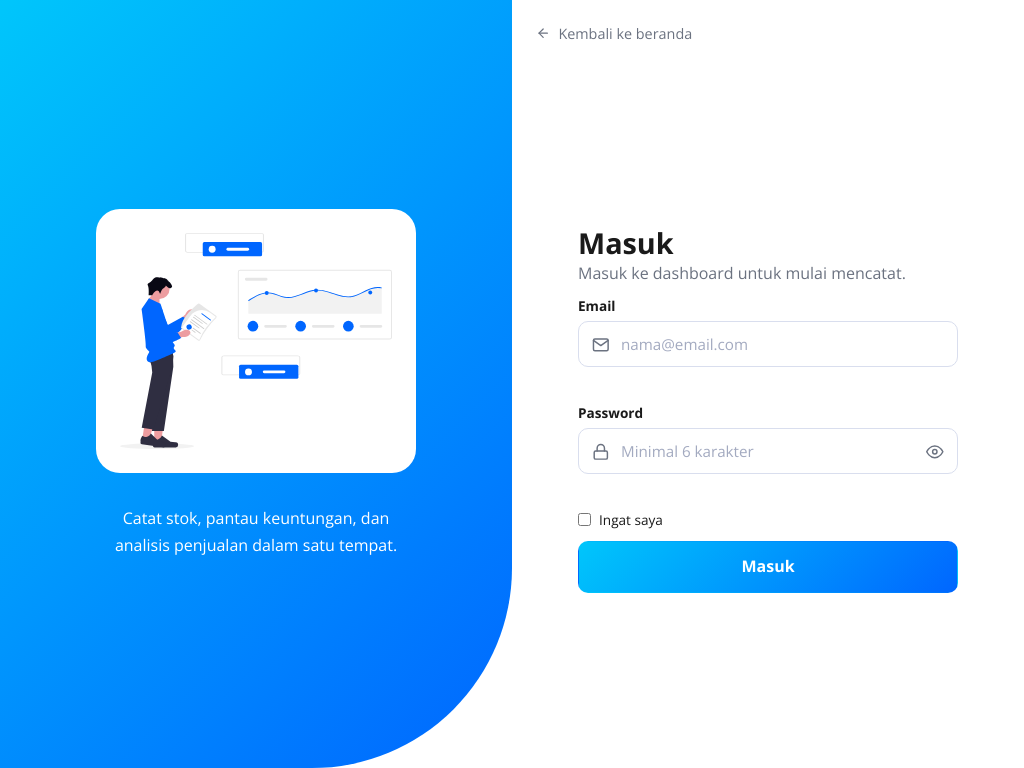
Scenario: Login › menampilkan error dan tetap di halaman login saat submit kosong
Click the button "Masuk".
click(768, 567)  # box [578,541,958,593]
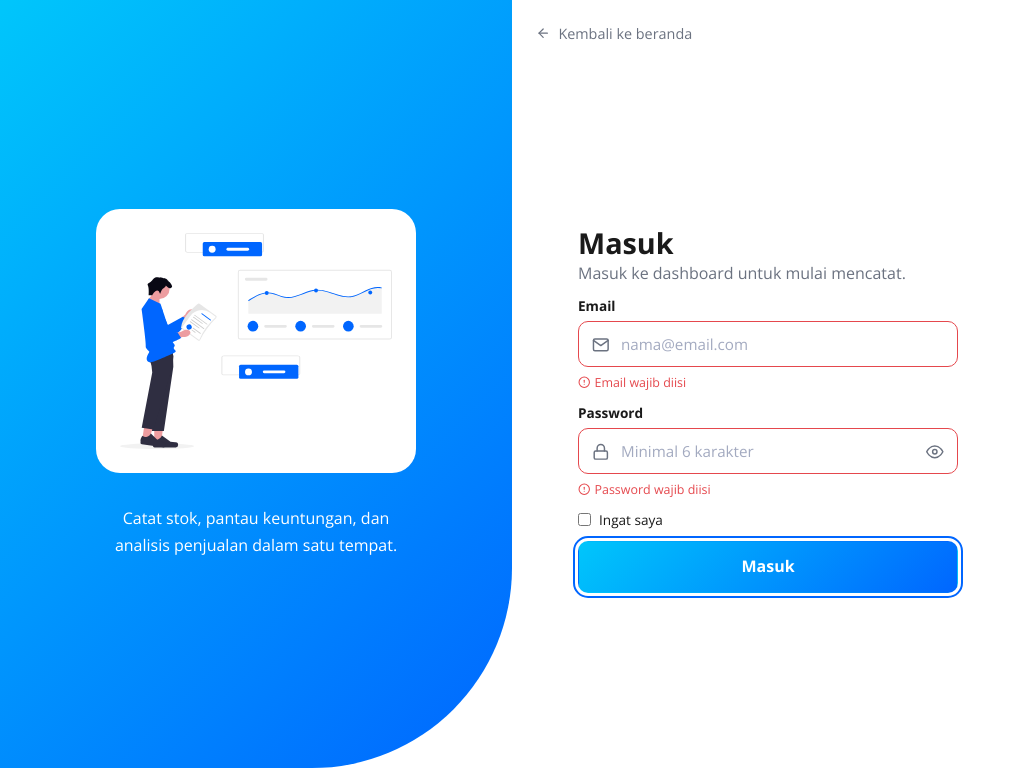
expect the number of messages is 2: met, box [578,373,686,391]; [578,480,711,498]
